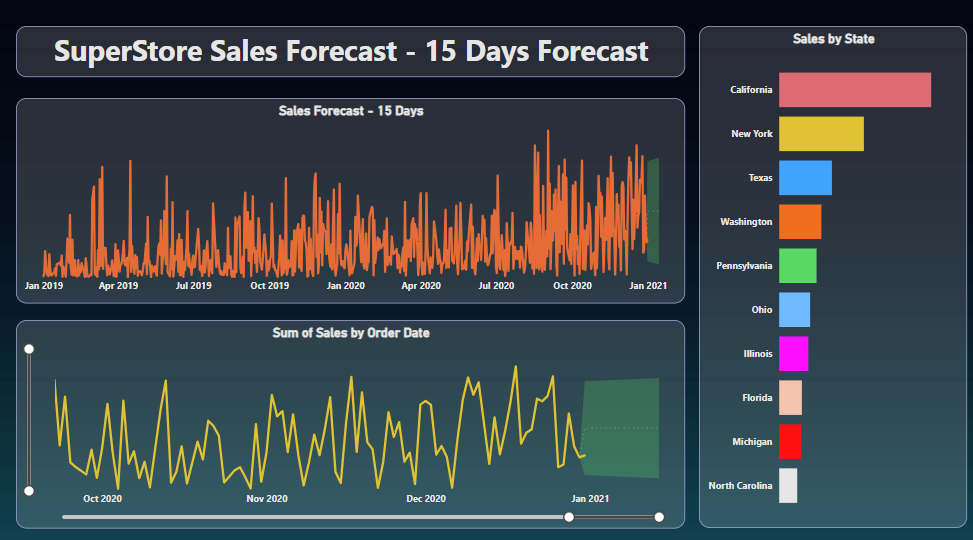

Layout of this report page (visuals, bound fields, positions):
{"tool":"powerbi","page":{"name":"Page 2","canvas":[1280,720],"ordinal":1},"visuals":[{"type":"lineChart","title":"Sales Forecast - 15 Days ","fields":{"Y":["Sum(SuperStore_Sales_Dataset.Sales)"],"Category":["SuperStore_Sales_Dataset.Order Date"]},"box":[24.3,131.4,875.7,268.6],"z":0},{"type":"lineChart","fields":{"Y":["Sum(SuperStore_Sales_Dataset.Sales)"],"Category":["SuperStore_Sales_Dataset.Order Date"]},"box":[24.3,421.4,875.7,272.9],"z":1000},{"type":"clusteredBarChart","title":"Sales by State","fields":{"Category":["SuperStore_Sales_Dataset.State"],"Y":["Sum(SuperStore_Sales_Dataset.Sales)"]},"box":[918.6,37.1,351.4,657.1],"z":2000},{"type":"textbox","box":[24.3,37.1,875.7,67.1],"z":3000}]}

Visuals, with their boxes in screenshot pixels (x1, y1, x2, y2), scaled from the page's 1280x720 canvas onto the 973x540 screenshot:
"Sales Forecast - 15 Days " lineChart: 18 99 684 300
lineChart - Sum(SuperStore_Sales_Dataset.Sales) x SuperStore_Sales_Dataset.Order Date: 18 316 684 521
"Sales by State" clusteredBarChart: 698 28 965 521
textbox: 18 28 684 78
